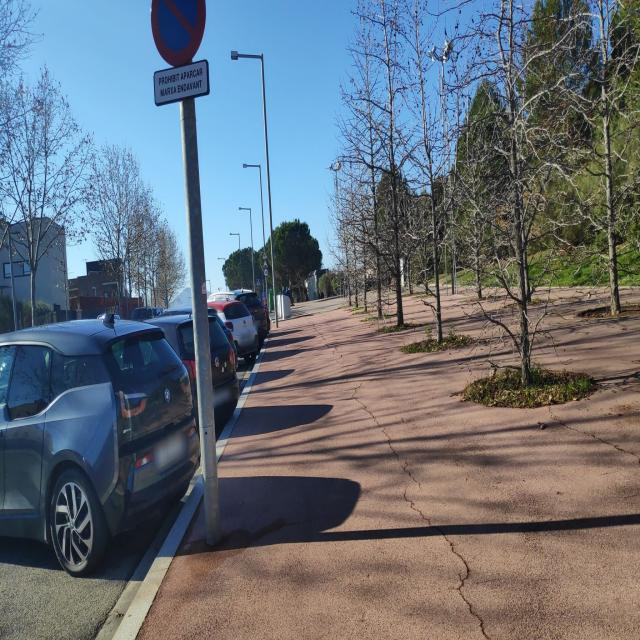forb_stopping: (150, 2, 207, 66)
